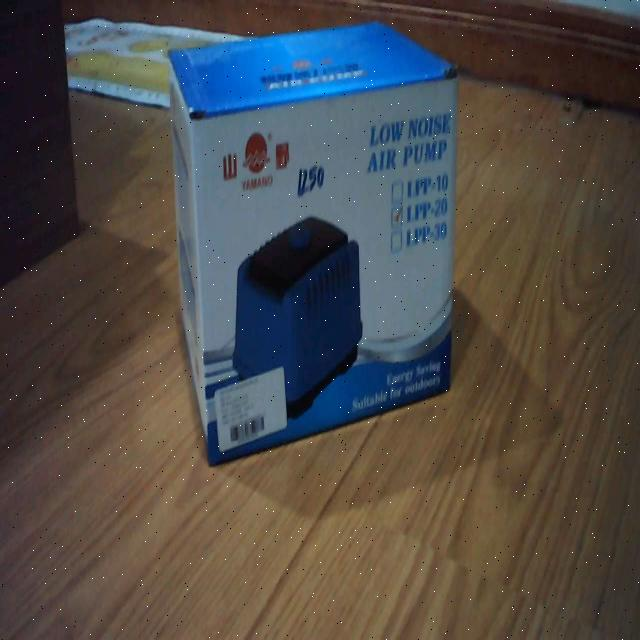YAMANO_LPP_20: (164, 13, 474, 476)
